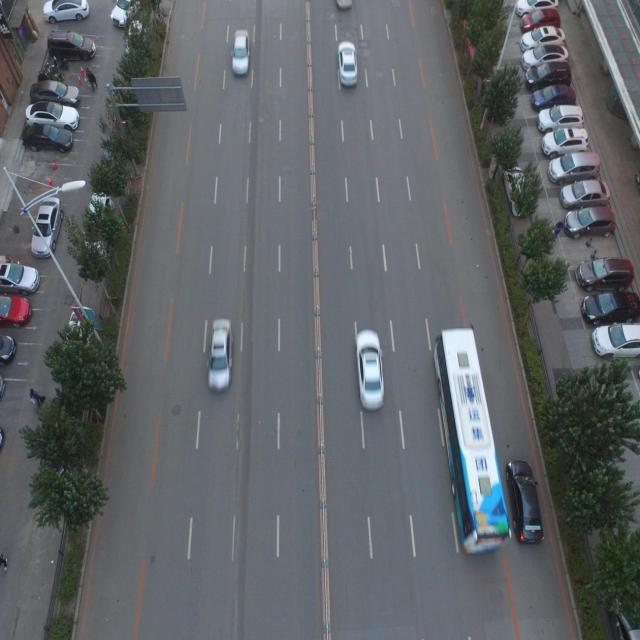p3rson: (30, 388, 44, 406), (88, 70, 97, 93), (0, 554, 9, 570), (85, 66, 91, 80)
